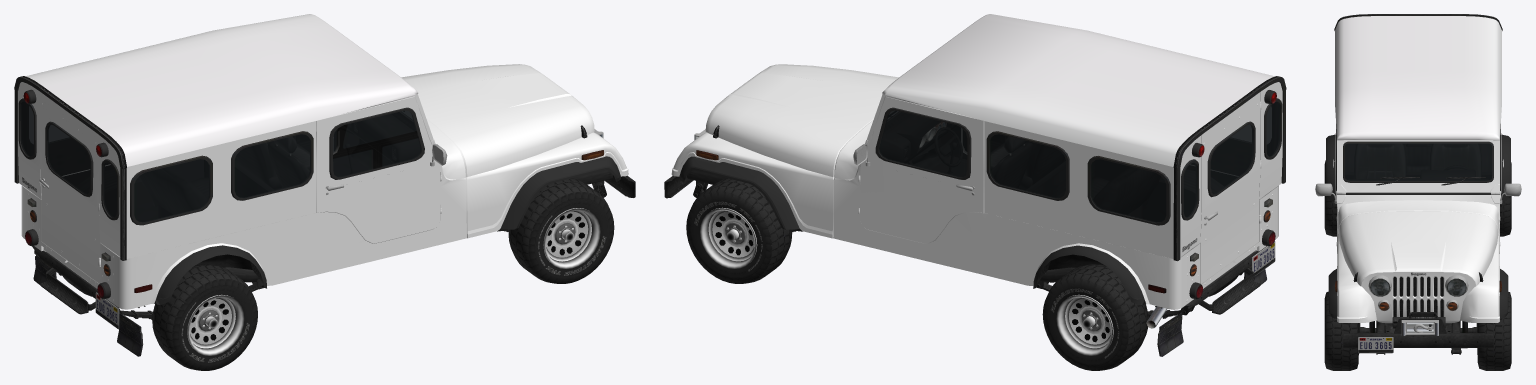
File: eugene65.fbx
The picture shows the model from 3 angles, left to right: view 1: azimuth 30°, elevation 25°; view 2: azimuth 150°, elevation 25°; view 3: azimuth 270°, elevation 25°; orthographic projection. The views are drawn at different scales.
Visible parts, largest first — view 1: EugenMK665_Bottom, EugenMK665_Body, EugenMK665_interior, EugenMK665_Hood, EugenMK665_Body_Glass, EugenMK665_WheelStock_RR, EugenMK665_WheelStock_FR, EugenMK665_Door_trunk, EugenMK665_Glass_Passanger, EugenMK665_trunkdoor_glass, EugenMK665_Bumper_Rear, EugenMK665_Door_trunk_inner (+2 smaller); view 2: EugenMK665_Bottom, EugenMK665_Body, EugenMK665_Hood, EugenMK665_interior, EugenMK665_Body_Glass, EugenMK665_WheelStock_RL, EugenMK665_WheelStock_FL, EugenMK665_Door_trunk, EugenMK665_Glass_Driver, EugenMK665_trunkdoor_glass, EugenMK665_Bumper_Rear, EugenMK665_Door_trunk_inner (+1 smaller); view 3: EugenMK665_Bottom, EugenMK665_Body, EugenMK665_Hood, EugenMK665_Windshield, EugenMK665_interior, EugenMK665_Bumper_front, EugenMK665_WheelStock_FR, EugenMK665_WheelStock_FL, EugenMK665_Numberplate_front, EugenMK665_Headlights_glass, EugenMK665_Headlights, EugenMK665_WheelStock_RR (+2 smaller).
Part boxes in pixels (<box>): EugenMK665_Bottom: <box>14,14,620,356</box>; EugenMK665_Body: <box>18,82,628,309</box>; EugenMK665_interior: <box>22,102,424,221</box>; EugenMK665_Hood: <box>401,64,594,177</box>; EugenMK665_Body_Glass: <box>20,101,310,222</box>; EugenMK665_WheelStock_RR: <box>152,264,257,370</box>; EugenMK665_WheelStock_FR: <box>508,178,614,283</box>; EugenMK665_Door_trunk: <box>40,92,100,283</box>; EugenMK665_Glass_Passanger: <box>333,110,421,177</box>; EugenMK665_trunkdoor_glass: <box>47,124,90,194</box>; EugenMK665_Bumper_Rear: <box>32,246,116,314</box>; EugenMK665_Door_trunk_inner: <box>39,121,93,197</box>; EugenMK665_Bottom: <box>679,14,1286,356</box>; EugenMK665_Body: <box>671,82,1282,309</box>; EugenMK665_Hood: <box>705,64,898,177</box>; EugenMK665_interior: <box>876,102,1278,221</box>; EugenMK665_Body_Glass: <box>989,101,1280,222</box>; EugenMK665_WheelStock_RL: <box>1042,264,1148,370</box>; EugenMK665_WheelStock_FL: <box>686,178,792,283</box>; EugenMK665_Door_trunk: <box>1200,92,1260,283</box>; EugenMK665_Glass_Driver: <box>879,110,967,177</box>; EugenMK665_trunkdoor_glass: <box>1210,124,1253,194</box>; EugenMK665_Bumper_Rear: <box>1184,246,1266,314</box>; EugenMK665_Door_trunk_inner: <box>1204,121,1255,225</box>; EugenMK665_Bottom: <box>1315,14,1521,332</box>; EugenMK665_Body: <box>1335,134,1501,323</box>; EugenMK665_Hood: <box>1338,211,1498,286</box>; EugenMK665_Windshield: <box>1344,143,1492,180</box>; EugenMK665_interior: <box>1336,144,1500,192</box>; EugenMK665_Bumper_front: <box>1343,312,1493,347</box>; EugenMK665_WheelStock_FR: <box>1324,291,1359,370</box>; EugenMK665_WheelStock_FL: <box>1477,292,1511,370</box>; EugenMK665_Numberplate_front: <box>1358,337,1393,353</box>; EugenMK665_Headlights_glass: <box>1370,278,1466,296</box>; EugenMK665_Headlights: <box>1370,279,1466,295</box>; EugenMK665_WheelStock_RR: <box>1324,160,1336,236</box>.
Size of the model in its own units: 3.98 by 1.72 by 1.73.
